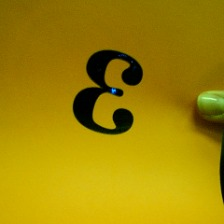orange3: (70, 44, 146, 138)
